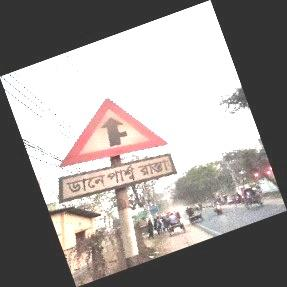Side-road-right: (60, 98, 180, 198)
